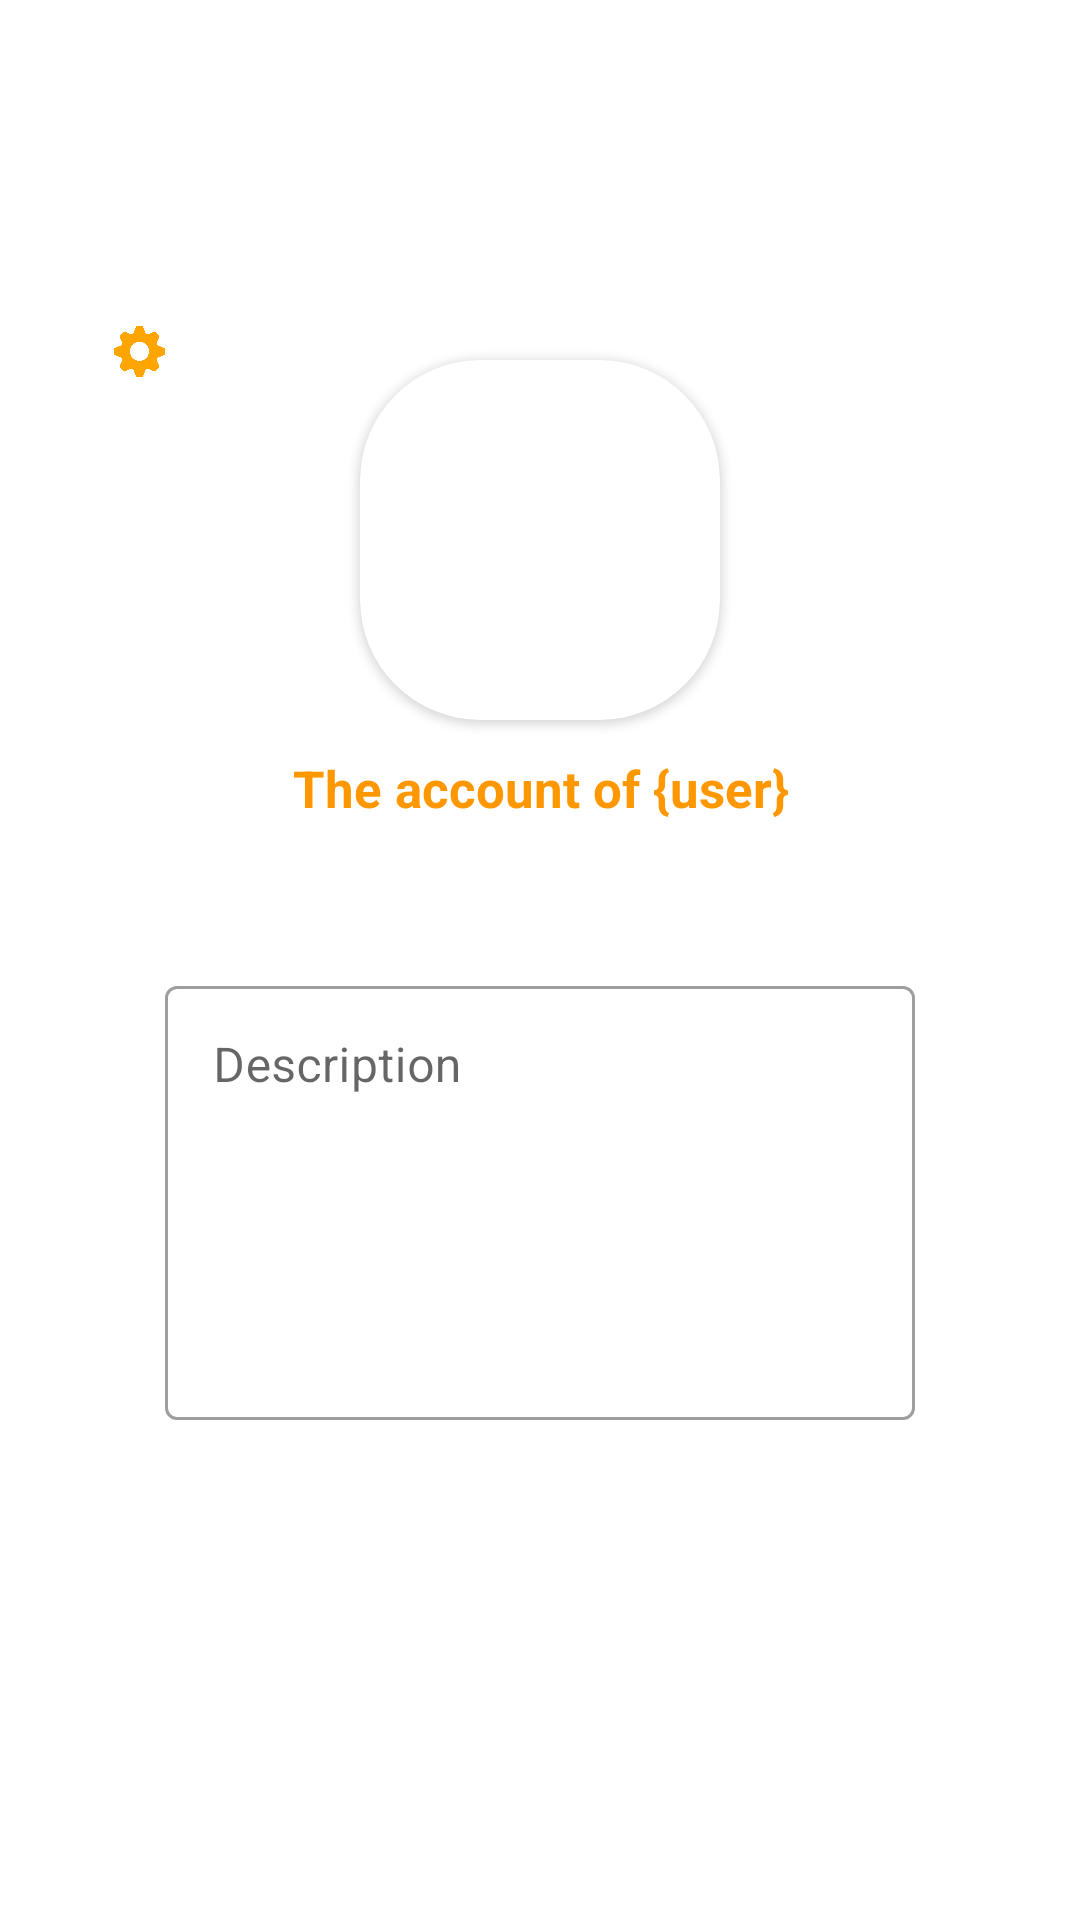

Where icons sit on this 1080px×1920px app screen, as bbox=[x1, y1, x2, y2]:
settings: bbox=[114, 326, 165, 377]
